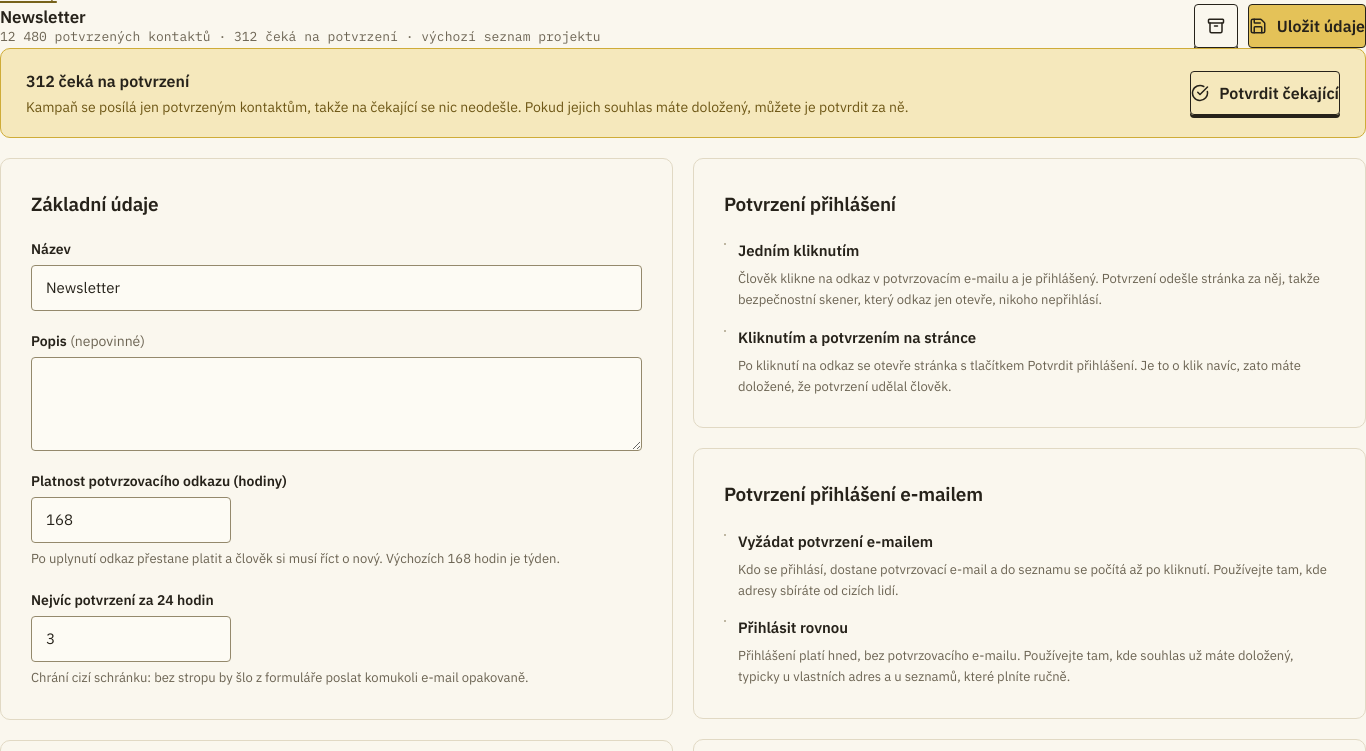
it: archivace seznamu › u výchozího seznamu přidá i následek o ztrátě role výchozího
Click the button with test id "list-archive-open": (1216, 26) left=1194, top=4, right=1238, bottom=48
(page scrolled)
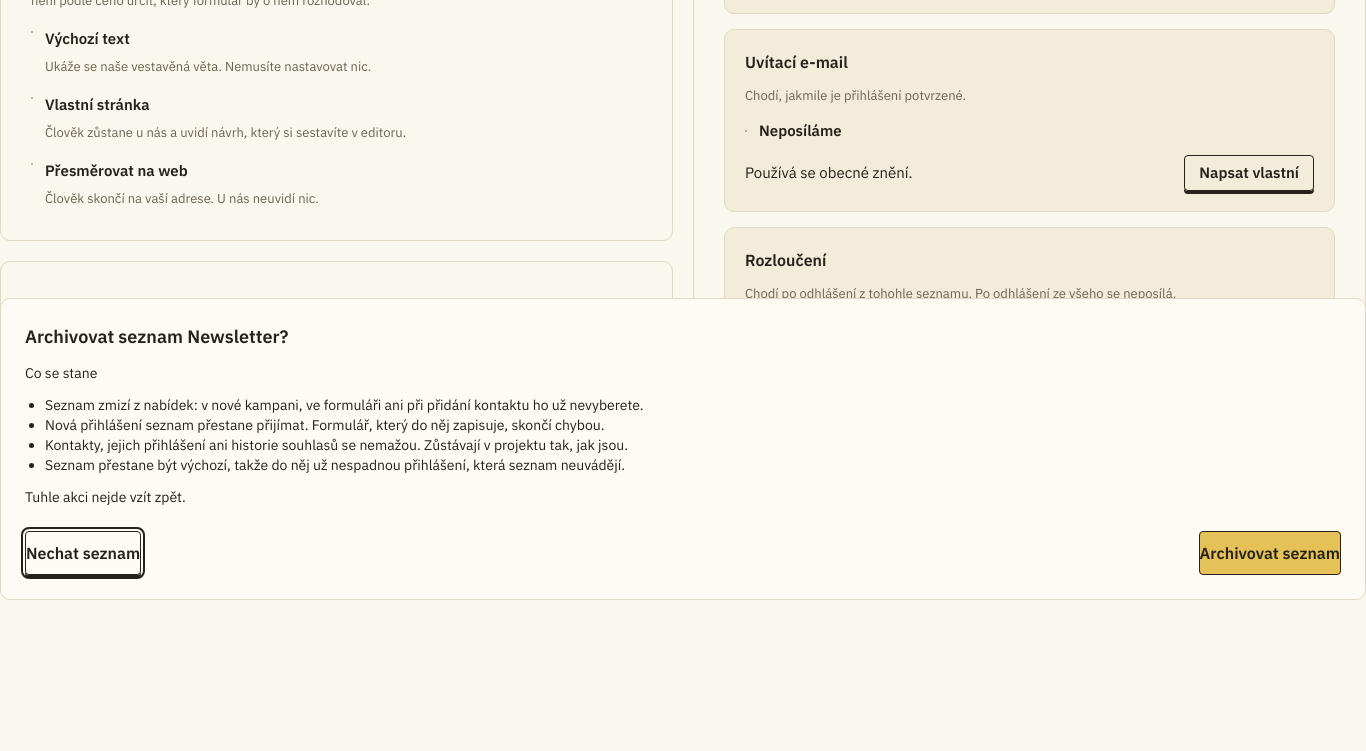
expect the dialog shows "přestane být výchozí": met, box left=45, top=456, right=625, bottom=474
